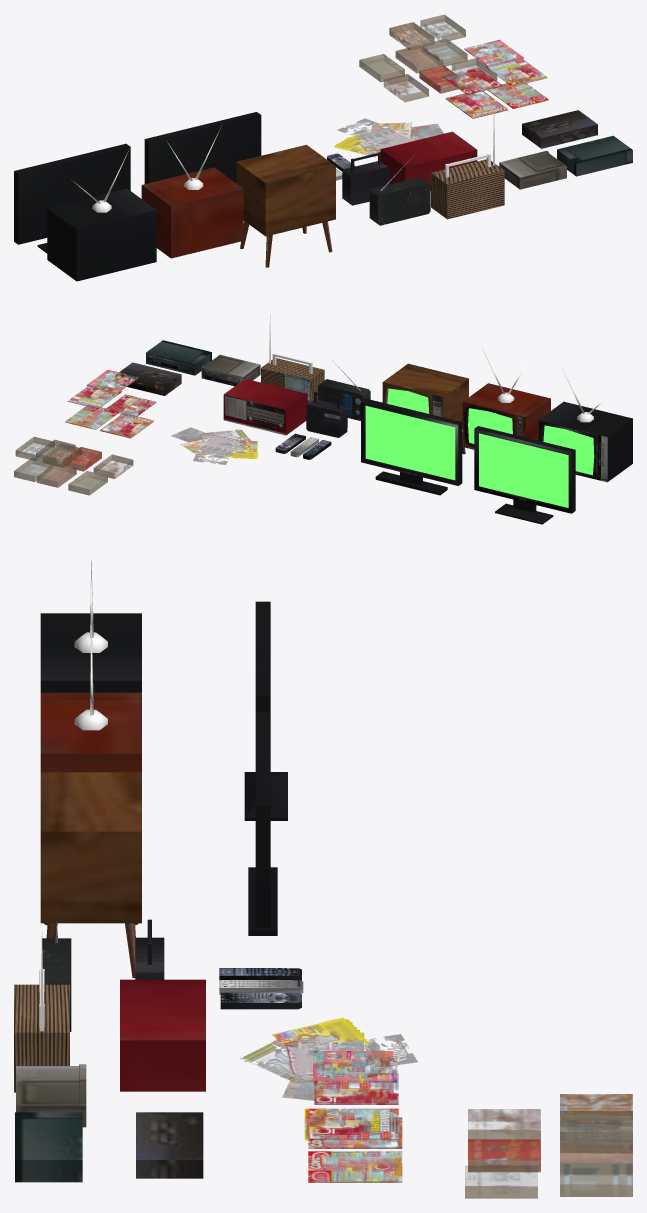
The model's file is entertainment.glb.
The picture shows the model from 3 angles, top to bottom: view 1: azimuth 30°, elevation 25°; view 2: azimuth 150°, elevation 25°; view 3: azimuth 270°, elevation 25°; orthographic projection. The views are drawn at different scales.
Visible parts, largest first — view 1: TV_02, TV, TV_01, TV_04, TV_03, Radio, Radio_03, Radio_01, Magazines, Video_player, Video_player_02, Video_player_01 (+14 smaller); view 2: TV_03, TV_04, TV_02, TV_01, TV, Radio_03, Magazines, Radio, Video_player, Radio_02, Video_player_02, Video_player_01 (+14 smaller); view 3: TV, Radio_03, TV_01, TV_02, Magazines, Video_player, Radio, TV_03, Video_player_02, Video_player_01, TV_04, Magazine_03 (+17 smaller).
Boxes of the visible parts, x1=… form: TV_02: x1=47, y1=149, x2=156, y2=281; TV: x1=236, y1=144, x2=335, y2=267; TV_01: x1=141, y1=126, x2=243, y2=258; TV_04: x1=14, y1=143, x2=130, y2=253; TV_03: x1=144, y1=112, x2=261, y2=183; Radio: x1=431, y1=111, x2=504, y2=219; Radio_03: x1=380, y1=131, x2=477, y2=190; Radio_01: x1=369, y1=155, x2=430, y2=225; Magazines: x1=334, y1=118, x2=443, y2=157; Video_player: x1=557, y1=135, x2=632, y2=176; Video_player_02: x1=522, y1=110, x2=597, y2=148; Video_player_01: x1=499, y1=151, x2=566, y2=189; TV_03: x1=361, y1=398, x2=462, y2=495; TV_04: x1=474, y1=426, x2=575, y2=524; TV_02: x1=538, y1=369, x2=632, y2=482; TV_01: x1=462, y1=348, x2=550, y2=449; TV: x1=382, y1=363, x2=468, y2=454; Radio_03: x1=223, y1=378, x2=307, y2=435; Magazines: x1=171, y1=427, x2=257, y2=464; Radio: x1=261, y1=314, x2=324, y2=404; Video_player: x1=146, y1=340, x2=211, y2=375; Radio_02: x1=306, y1=391, x2=347, y2=437; Video_player_02: x1=116, y1=362, x2=181, y2=395; Video_player_01: x1=201, y1=354, x2=260, y2=386; TV: x1=40, y1=772, x2=141, y2=978; Radio_03: x1=120, y1=979, x2=205, y2=1091; TV_01: x1=40, y1=612, x2=141, y2=772; TV_02: x1=40, y1=560, x2=141, y2=692; Magazines: x1=240, y1=1018, x2=417, y2=1100; Video_player: x1=15, y1=1112, x2=82, y2=1182; Radio: x1=14, y1=932, x2=69, y2=1092; TV_03: x1=248, y1=711, x2=277, y2=935; Video_player_02: x1=136, y1=1112, x2=203, y2=1178; Video_player_01: x1=16, y1=1064, x2=86, y2=1127; TV_04: x1=244, y1=601, x2=287, y2=820; Magazine_03: x1=304, y1=1108, x2=398, y2=1140.
Bounding box in the file's own units: 6.11 × 1.5 × 3.45.
4 materials, 2 textured.
